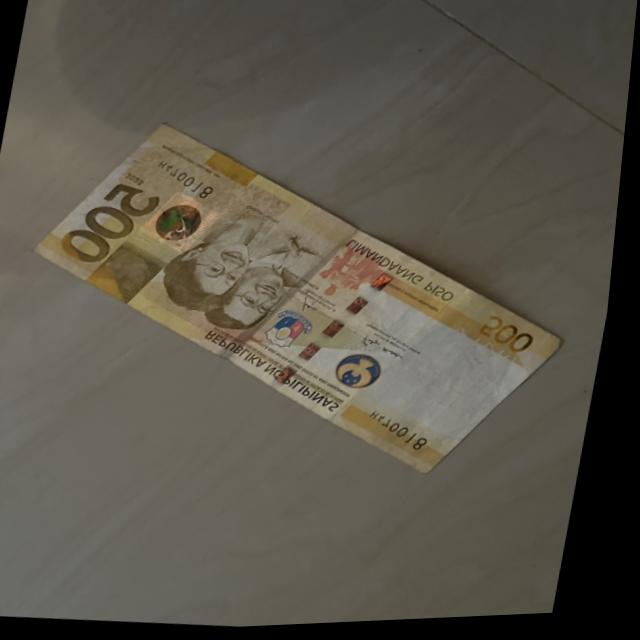concealed_value: (93, 251, 163, 294)
optically_variable_device: (156, 203, 208, 244)
serial_number: (355, 404, 455, 462), (135, 156, 227, 208)
value: (48, 173, 173, 274)
